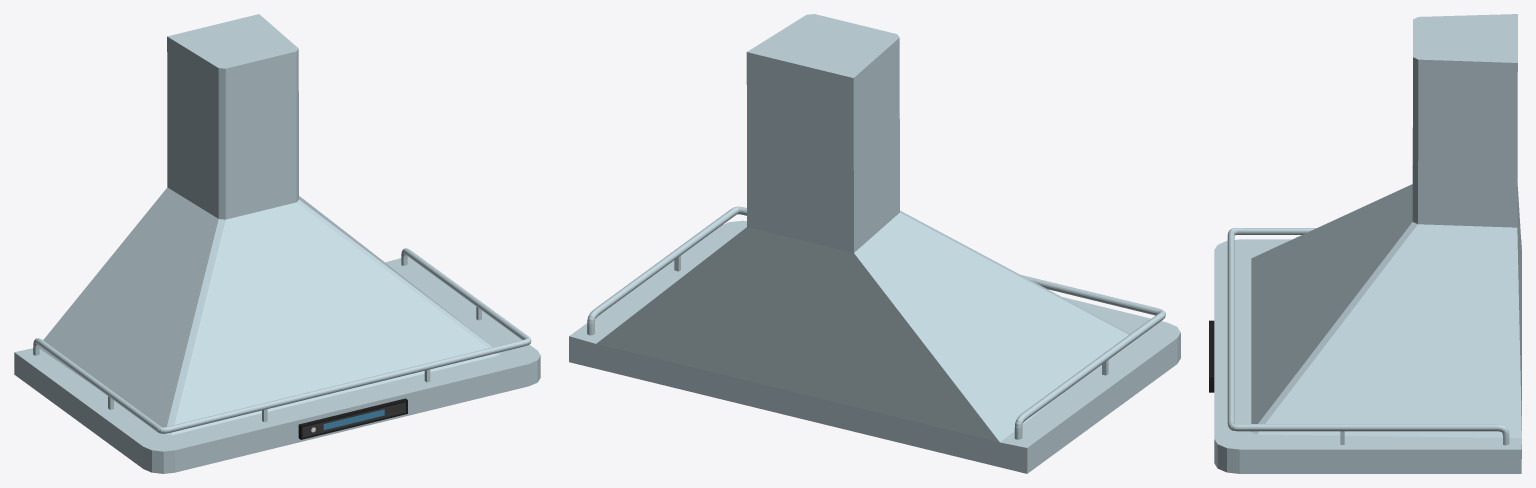
Rendered from StoveVent.glb.
The picture shows the model from 3 angles, left to right: view 1: azimuth 30°, elevation 25°; view 2: azimuth 150°, elevation 25°; view 3: azimuth 270°, elevation 25°; orthographic projection. The views are drawn at different scales.
Parts seen in each view (by area): view 1: Fan; view 2: Fan; view 3: Fan.
Part boxes in pixels (x1,y1,x2,y2): Fan: (14, 14, 540, 473); Fan: (569, 14, 1180, 473); Fan: (1209, 14, 1521, 473).
Size of the model in its own units: 0.7986 by 0.5871 by 0.5027.
1 material, 1 textured.
